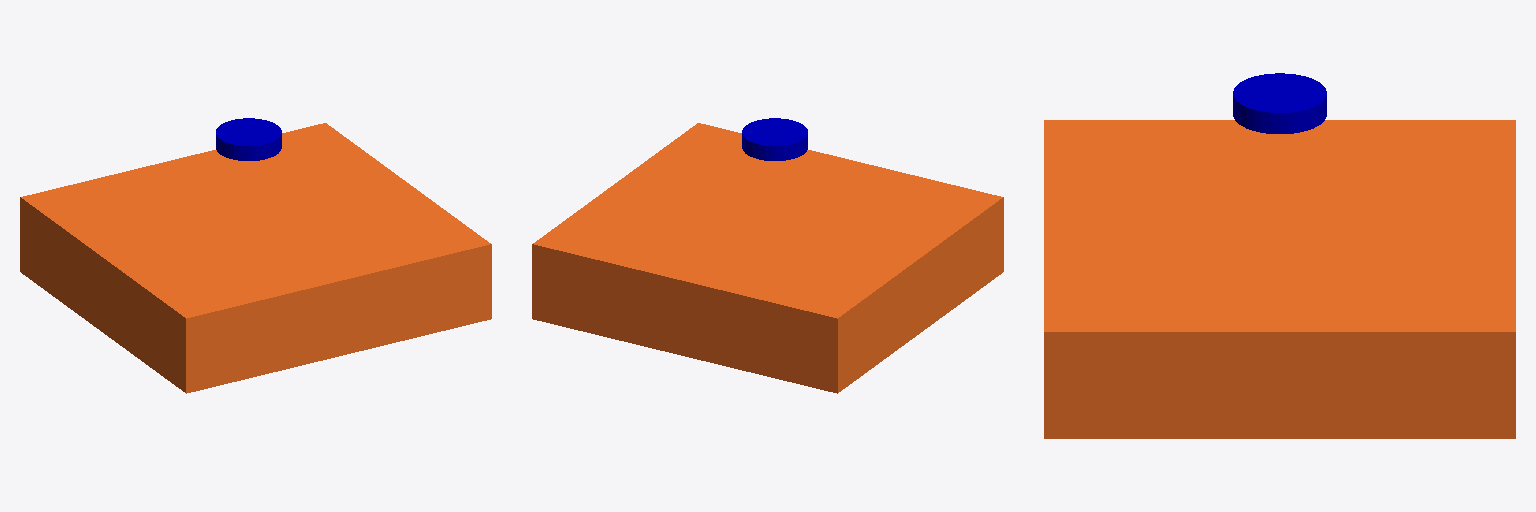
URDF robot description (wheeled_robot_xu):
<?xml version="1.0"?>
<!--
  轮式机器人 URDF（_xu 版本）
  适配 ZED 深度障碍物层和 costmap footprint 配置
  footprint: [[-0.275,-0.15], [-0.275,0.15], [0.15, 0.2], [0.15, -0.2]]
-->

<robot name="wheeled_robot_xu">
  
  <!-- 材料定义 -->
  <material name="orange">
    <color rgba="1.0 0.5 0.2 1" />
  </material>
  <material name="gray">
    <color rgba="0.2 0.2 0.2 1" />
  </material>
  <material name="blue">
    <color rgba="0 0 0.8 1"/>
  </material>

  <!-- 机器人底盘 base_link -->
  <link name="base_link">
    <visual>
      <origin rpy="0 0 0" xyz="0 0 0"/>
      <geometry>
        <!-- 使用矩形近似 footprint: 长 0.425m (0.15-(-0.275)), 宽 0.4m (0.2-(-0.2)) -->
        <box size="0.425 0.4 0.1"/>
      </geometry>
      <material name="orange" />
    </visual>
    <collision>
      <origin rpy="0 0 0" xyz="0 0 0"/>
      <geometry>
        <!-- 碰撞模型：匹配 costmap footprint -->
        <box size="0.425 0.4 0.1"/>
      </geometry>
    </collision>
    <inertial>
      <mass value="20.0"/>
      <origin xyz="0 0 0"/>
      <inertia ixx="0.5" ixy="0.0" ixz="0.0" iyy="0.5" iyz="0.0" izz="0.3"/>
    </inertial>
  </link>

  <!-- 激光雷达（如果使用） -->
  <link name="laser">
    <visual>
      <origin xyz="0 0 0" />
      <geometry>
        <cylinder length="0.02" radius="0.04" />
      </geometry>
      <material name="blue" />
    </visual>
    <collision>
      <origin xyz="0 0 0" />
      <geometry>
        <cylinder length="0.02" radius="0.04" />
      </geometry>
    </collision>
  </link>

  <joint name="laser_joint" type="fixed">
    <parent link="base_link" />
    <child link="laser" />
    <!-- 激光位置：根据实际安装调整 -->
    <origin xyz="-0.01 0 0.160" rpy="0.0 0.0 0"/>
  </joint>

  <!-- ZED 相机（使用 xacro 宏，需要在 launch 文件中包含） -->
  <!-- 注意：ZED 相机的 URDF 通常通过 zed_wrapper 的 launch 文件加载 -->
  <!-- 如果需要在这里直接定义，可以取消下面的注释并调整位置 -->
  <!--
  <link name="zed2i_left_camera_frame">
    <visual>
      <origin xyz="0 0 0" rpy="0 0 0"/>
      <geometry>
        <box size="0.1 0.05 0.03"/>
      </geometry>
      <material name="gray" />
    </visual>
  </link>
  
  <joint name="zed_joint" type="fixed">
    <parent link="base_link" />
    <child link="zed2i_left_camera_frame" />
    <origin xyz="0.15 0 0.3" rpy="0 0 0"/>
  </joint>
  -->

</robot>

--- What the picture shows (computed from the rendered views, not written in the file) ---
Views: 3 orthographic renders of the robot side by side, from view 1: azimuth 30°, elevation 25°; view 2: azimuth 150°, elevation 25°; view 3: azimuth 270°, elevation 25°.
Robot: wheeled_robot_xu — 2 links, 1 joints (1 fixed); root link base_link; default pose: all joints at 0.
Visible links, largest first — view 1: base_link, laser; view 2: base_link, laser; view 3: base_link, laser.
Boxes of the visible links, <box> form: base_link: <box>20,123,491,393</box>; laser: <box>216,118,281,160</box>; base_link: <box>532,123,1003,393</box>; laser: <box>742,118,807,160</box>; base_link: <box>1044,120,1515,438</box>; laser: <box>1233,73,1326,133</box>.
Size in the robot's own frame: 0.425 by 0.4 by 0.22 metres.
Geometry: primitives only (box / cylinder / sphere), no mesh files.
